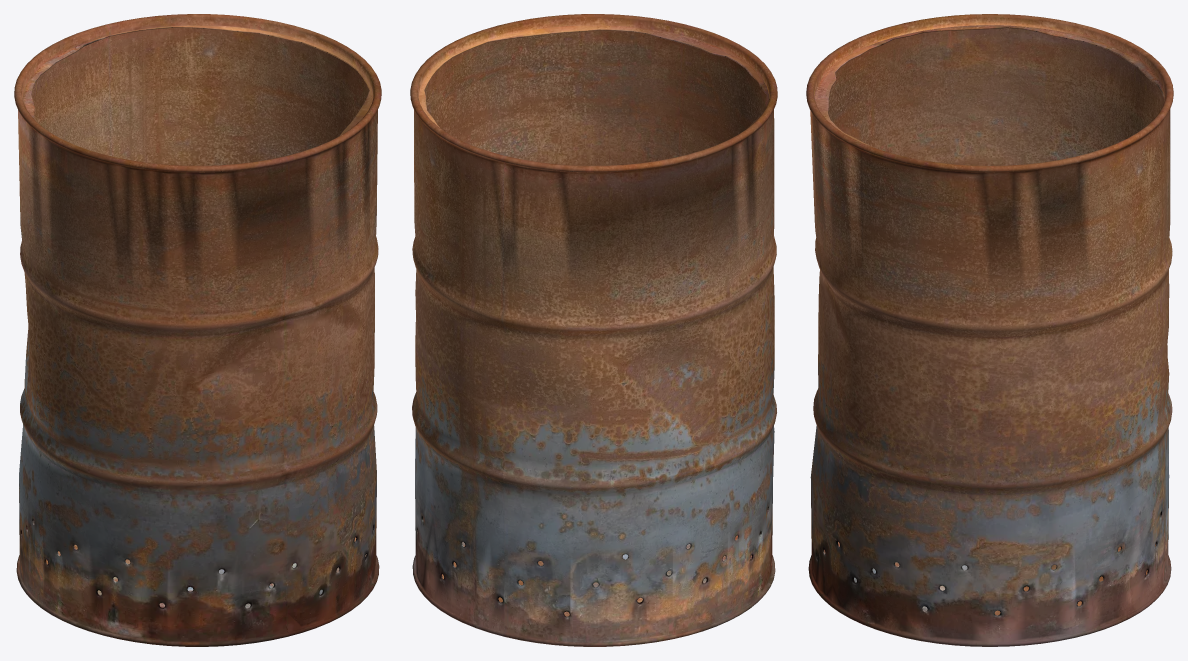
The model's file is barrel_stove.glb.
3 renders of one model, left to right at view 1: azimuth 30°, elevation 25°; view 2: azimuth 150°, elevation 25°; view 3: azimuth 270°, elevation 25°, orthographic.
Parts seen in each view (by area): view 1: barrel_stove; view 2: barrel_stove; view 3: barrel_stove.
Boxes of the visible parts, x1,y1,x2,y2 form: barrel_stove: (14, 14, 381, 646); barrel_stove: (410, 14, 777, 646); barrel_stove: (806, 14, 1173, 646).
Bounding box in the file's own units: 0.5925 × 0.8556 × 0.5925.
1 material, 1 textured.
